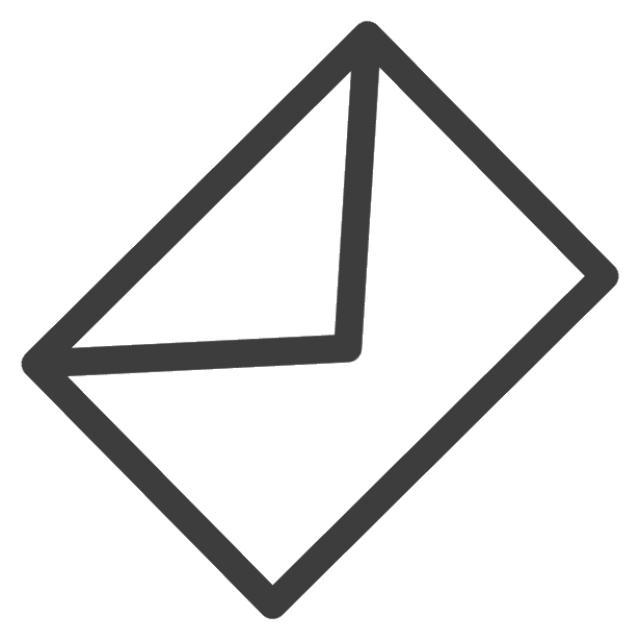letter: (12, 15, 629, 630)
